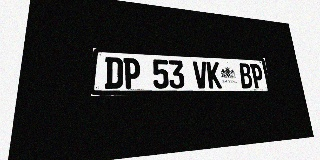3: (168, 60, 185, 88)
5: (153, 59, 169, 88)
B: (238, 63, 253, 88)
D: (104, 57, 123, 89)
K: (206, 62, 222, 88)
P: (123, 58, 140, 89), (250, 64, 265, 88)
V: (192, 61, 208, 88)
